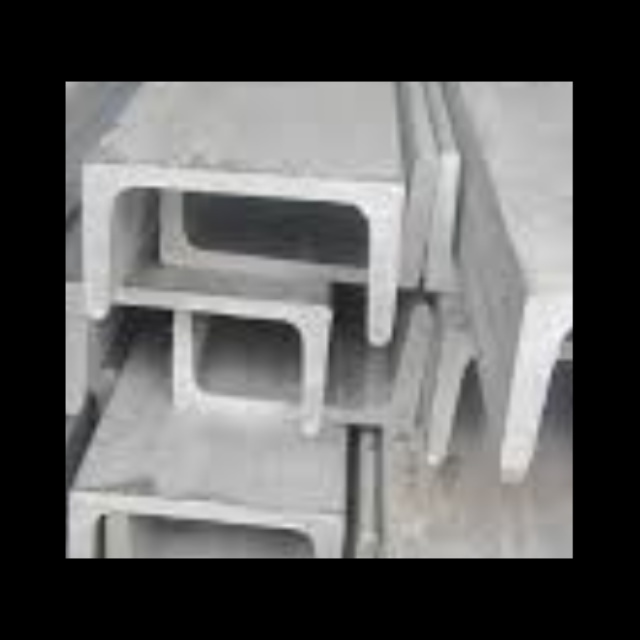Shveller: (87, 163, 395, 331), (66, 288, 321, 429), (171, 167, 421, 278), (177, 319, 416, 420), (430, 344, 573, 473), (71, 503, 334, 558), (115, 522, 369, 558)
